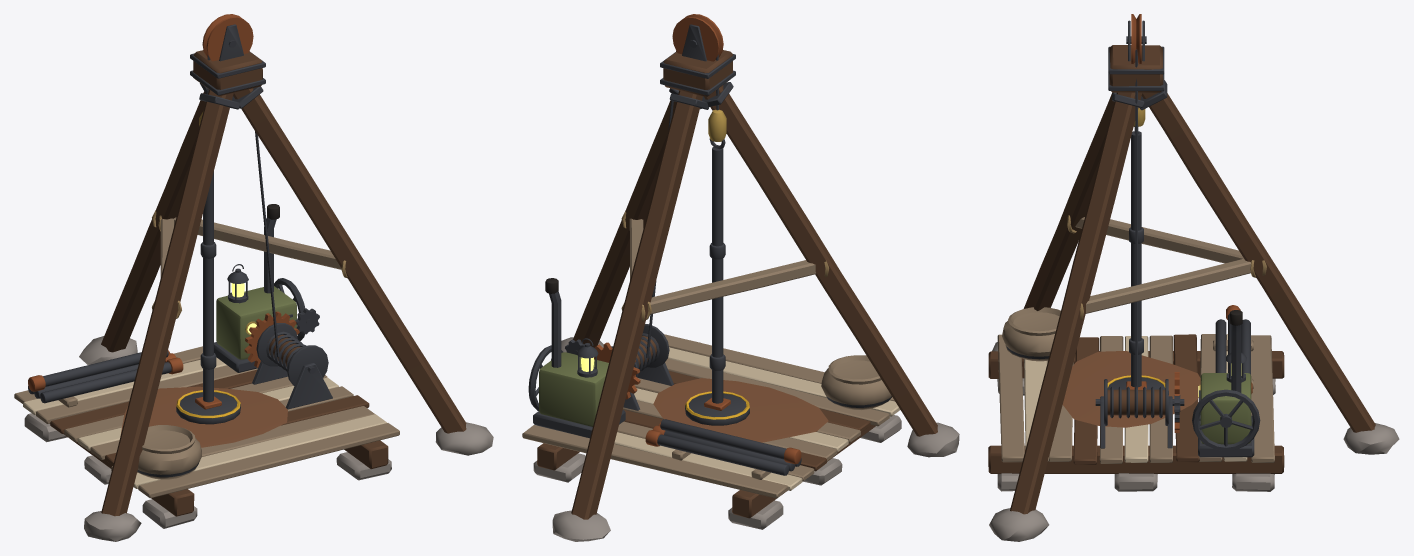
File: deco_drill_rig.fbx
3 renders of one model, left to right at view 1: azimuth 30°, elevation 25°; view 2: azimuth 150°, elevation 25°; view 3: azimuth 270°, elevation 25°, orthographic.
Parts seen in each view (by area): view 1: DrillRig_Tripod, DrillRig_Platform, DrillRig_Motor, DrillRig_Pipes, DrillRig_DrillString; view 2: DrillRig_Tripod, DrillRig_Platform, DrillRig_Motor, DrillRig_Pipes, DrillRig_DrillString; view 3: DrillRig_Tripod, DrillRig_Platform, DrillRig_Motor, DrillRig_Pipes, DrillRig_DrillString.
Boxes of the visible parts, x1,y1,x2,y2 form: DrillRig_Tripod: (79, 14, 493, 541); DrillRig_Platform: (14, 346, 399, 528); DrillRig_Motor: (214, 51, 332, 409); DrillRig_Pipes: (28, 350, 201, 479); DrillRig_DrillString: (199, 55, 216, 402); DrillRig_Tripod: (552, 14, 959, 541); DrillRig_Platform: (522, 334, 901, 529); DrillRig_Motor: (528, 51, 676, 438); DrillRig_Pipes: (645, 355, 891, 479); DrillRig_DrillString: (708, 54, 726, 403); DrillRig_Tripod: (989, 14, 1399, 541); DrillRig_Platform: (988, 334, 1284, 491); DrillRig_Motor: (1095, 49, 1260, 457); DrillRig_Pipes: (1002, 305, 1253, 393); DrillRig_DrillString: (1129, 108, 1145, 387).
Bounding box in the file's own units: 453 × 468 × 404.
